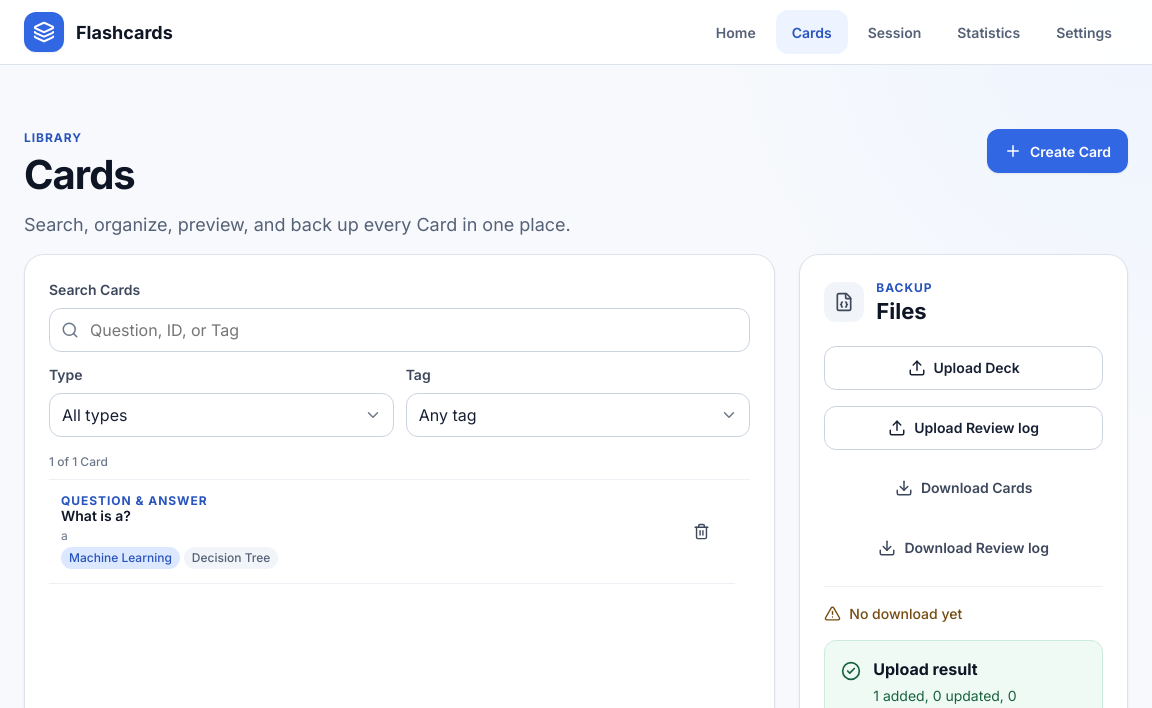
the header shows the brand, and the brand goes Home from Statistics
Earlier steps of the test are not shown.
Click the button "Home".
click(736, 32)  # box [700, 10, 772, 54]
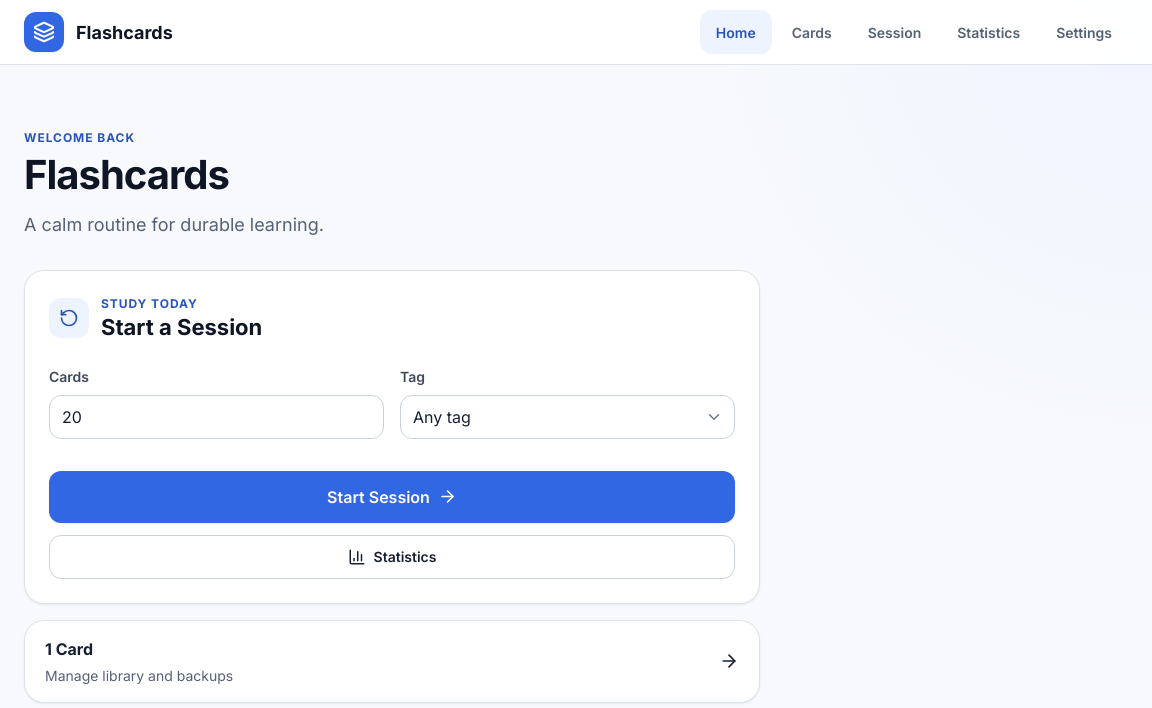
Click the 1st button "Statistics".
click(989, 32)  # box [941, 10, 1036, 54]
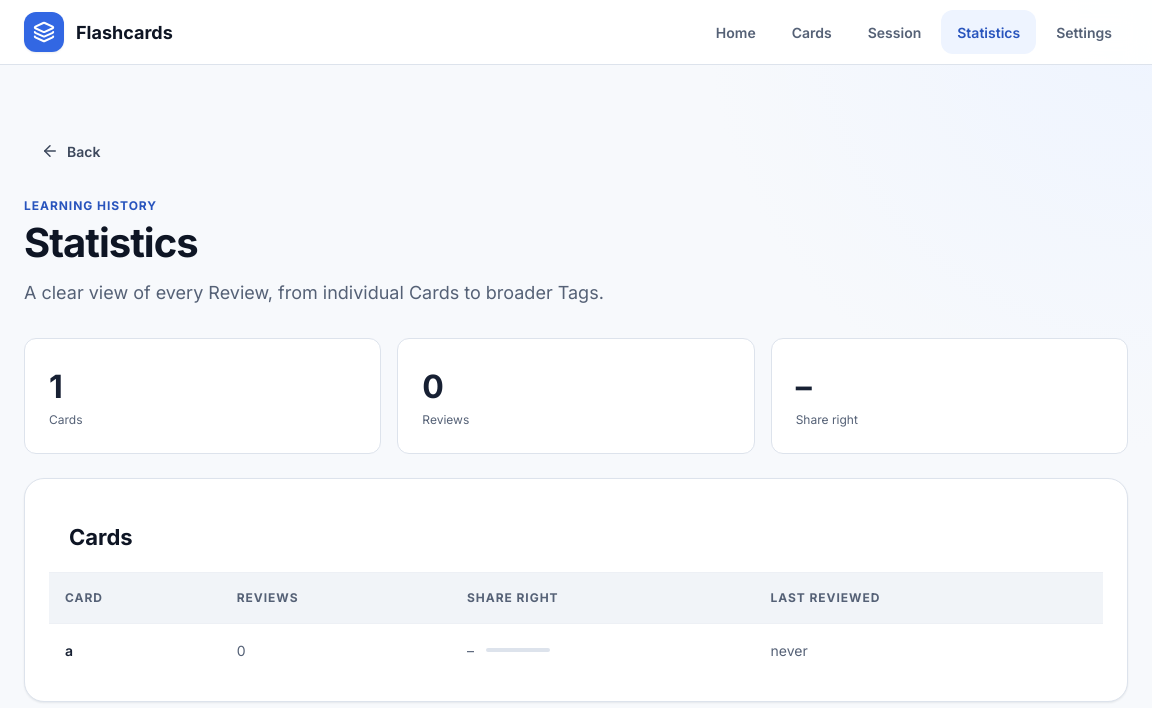
Check: the table named "Cards" is shown, box [49, 573, 1103, 677]
Check: the button "Start Session" is gone
Click the button with aria-label "Flashcards home".
click(98, 32)  # box [24, 10, 173, 54]
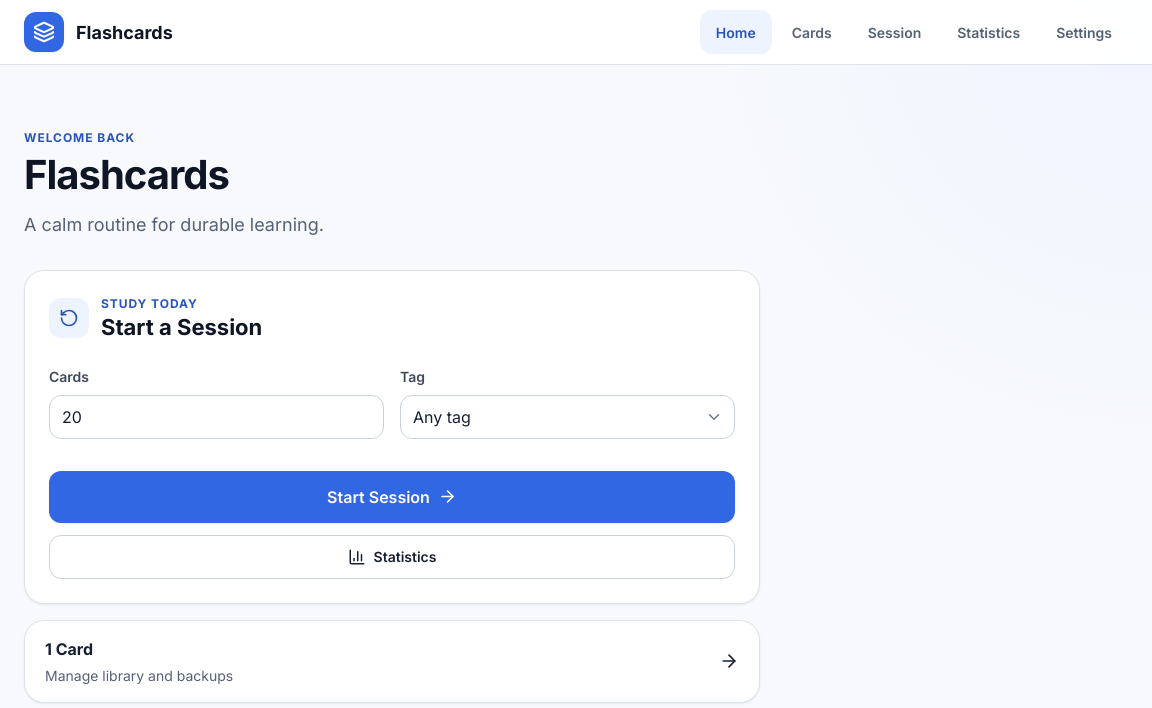
Check: the button "Start Session" is shown, box [49, 471, 735, 523]
Click the button "Cards".
click(812, 32)  # box [776, 10, 848, 54]
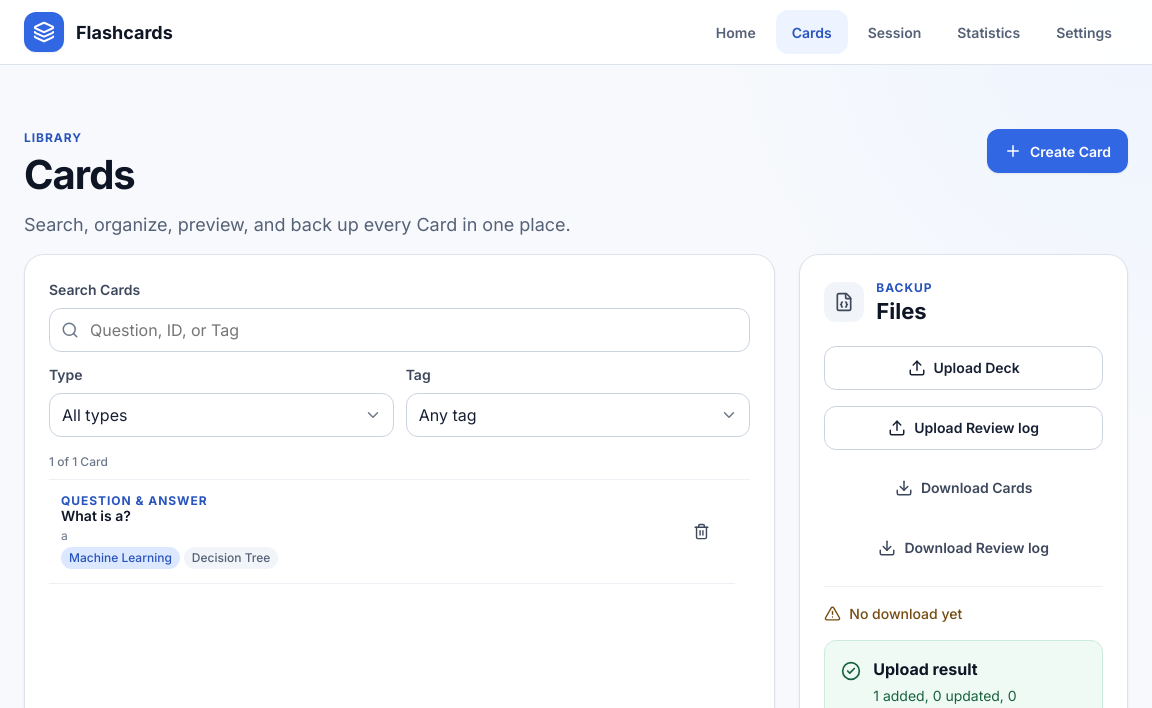
Check: the text "a" is shown, box [61, 528, 68, 543]
